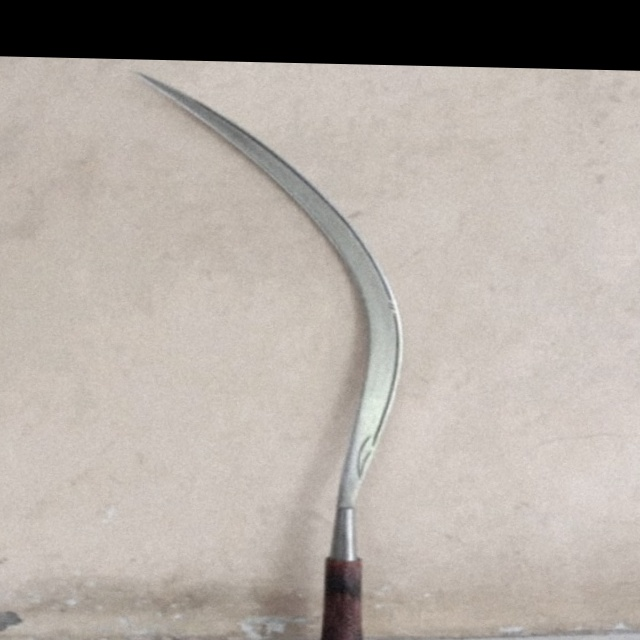Sharp-Object: (113, 67, 413, 640)
